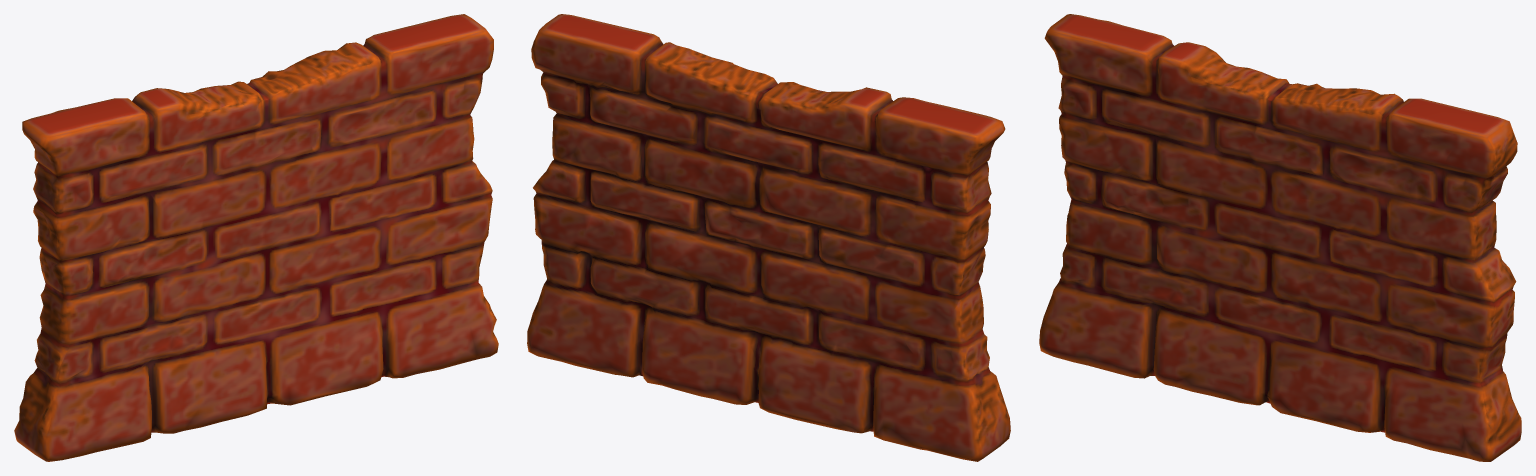
The model's file is WallSeg2.fbx.
The picture shows the model from 3 angles, left to right: view 1: azimuth 30°, elevation 25°; view 2: azimuth 150°, elevation 25°; view 3: azimuth 330°, elevation 25°; orthographic projection.
Visible parts, largest first — view 1: WallSeg2_Lo.001; view 2: WallSeg2_Lo.001; view 3: WallSeg2_Lo.001.
Part boxes in pixels (x1,y1,x2,y2): WallSeg2_Lo.001: [14, 14, 498, 461]; WallSeg2_Lo.001: [527, 14, 1010, 461]; WallSeg2_Lo.001: [1039, 14, 1521, 461].
Bounding box in the file's own units: 1107 × 754 × 142.
